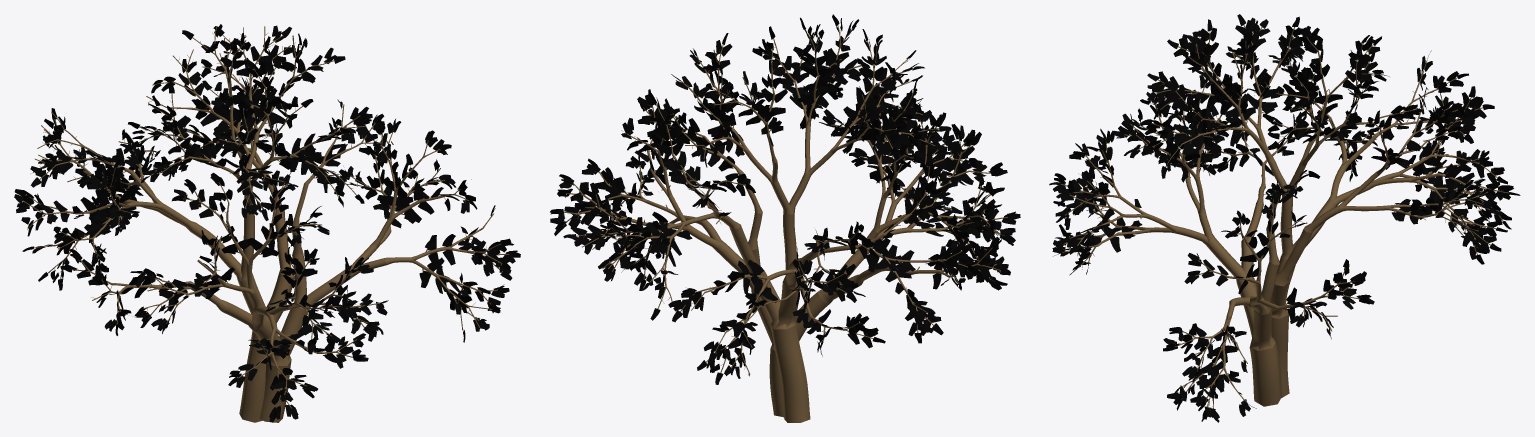
File: Tree.fbx
3 renders of one model, left to right at view 1: azimuth 30°, elevation 25°; view 2: azimuth 150°, elevation 25°; view 3: azimuth 270°, elevation 25°, orthographic. The views are drawn at different scales.
Visible parts, largest first — view 1: treeLeafy1Leaf, treeLeafy1Main; view 2: treeLeafy1Leaf, treeLeafy1Main; view 3: treeLeafy1Leaf, treeLeafy1Main.
Part boxes in pixels (<box>): treeLeafy1Leaf: <box>14,24,520,422</box>; treeLeafy1Main: <box>23,26,509,422</box>; treeLeafy1Leaf: <box>550,14,1020,384</box>; treeLeafy1Main: <box>563,25,1007,422</box>; treeLeafy1Leaf: <box>1049,14,1520,422</box>; treeLeafy1Main: <box>1061,25,1508,409</box>.
Bounding box in the file's own units: 155 × 135 × 155.
